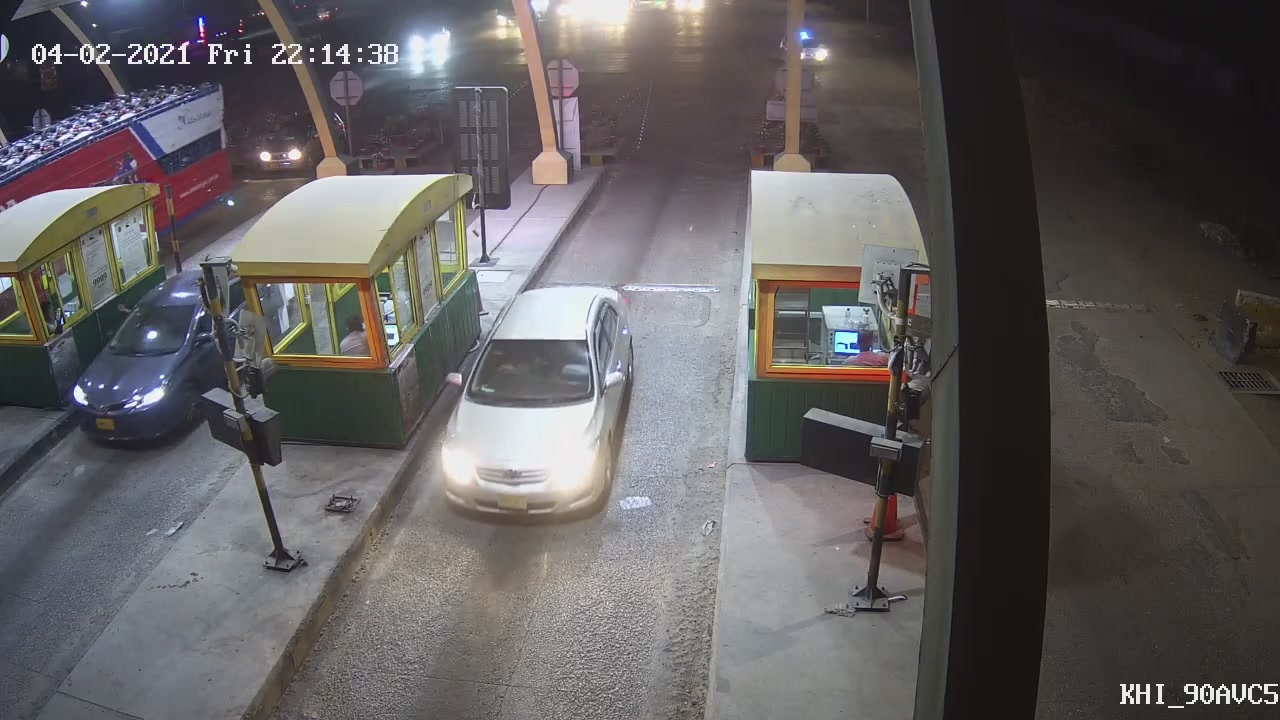F1: (437, 284, 646, 525)
